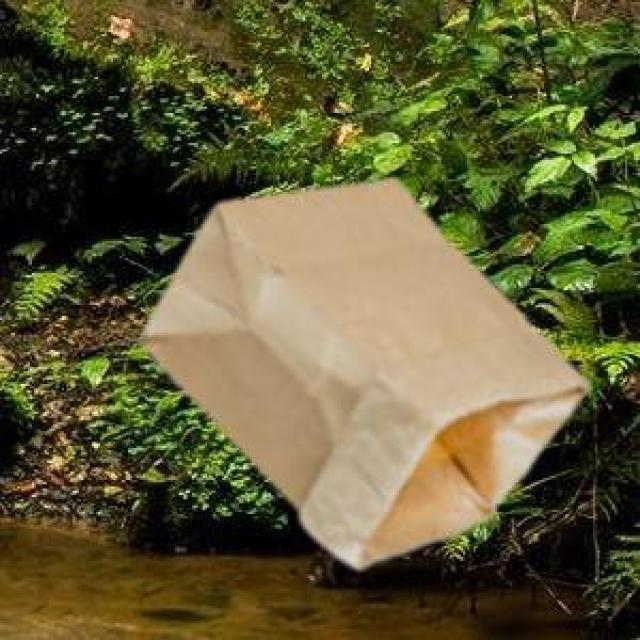paper: (139, 175, 585, 563)
